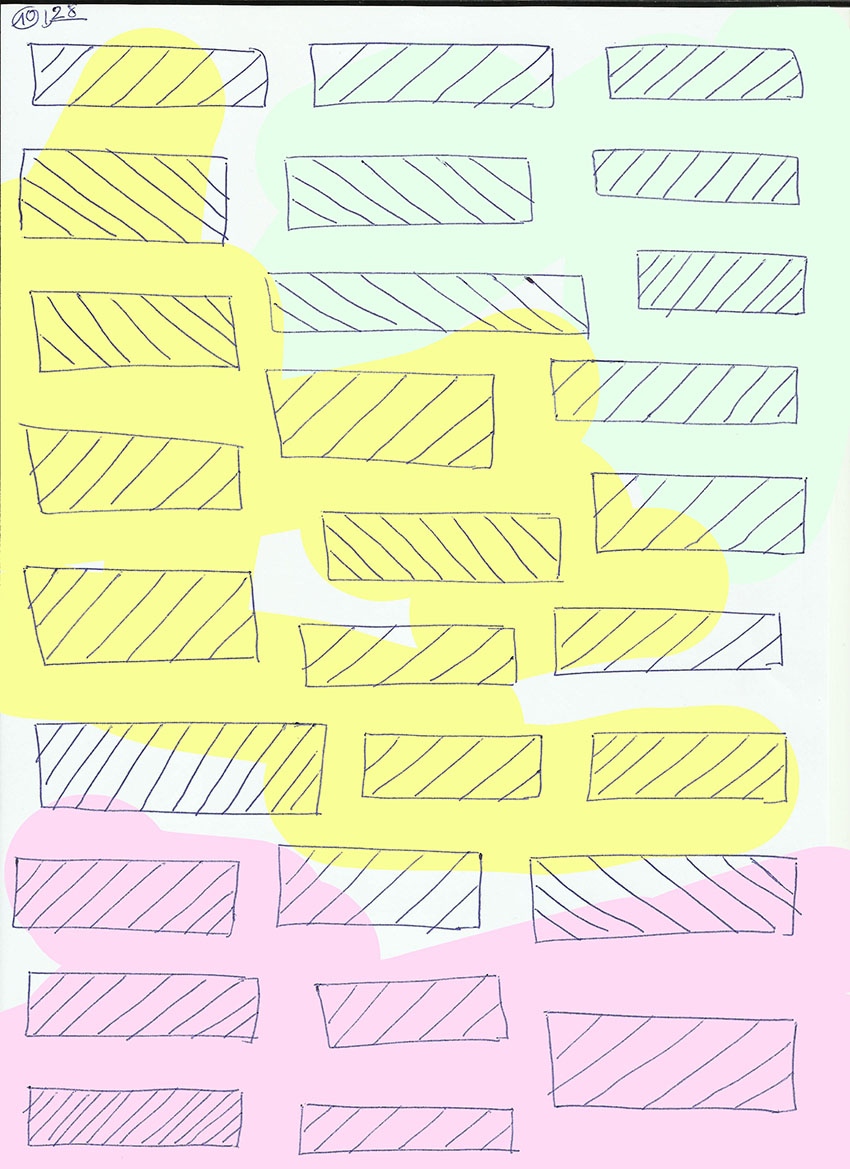frame: (30, 717, 333, 821), (539, 1006, 801, 1117), (525, 850, 801, 946), (19, 559, 261, 668), (261, 365, 500, 472), (260, 268, 593, 342), (13, 416, 249, 516), (16, 143, 232, 249), (281, 150, 536, 236), (273, 838, 485, 937), (317, 505, 569, 587), (586, 467, 810, 558), (25, 286, 245, 377), (19, 966, 264, 1047), (8, 854, 242, 938), (546, 355, 802, 431), (24, 37, 270, 113), (305, 38, 556, 112), (550, 603, 787, 677), (311, 971, 511, 1055), (21, 1080, 248, 1154), (295, 619, 521, 692), (583, 728, 792, 806), (357, 725, 546, 805), (296, 1098, 521, 1160), (602, 41, 805, 108), (589, 146, 804, 209), (633, 246, 808, 321)
